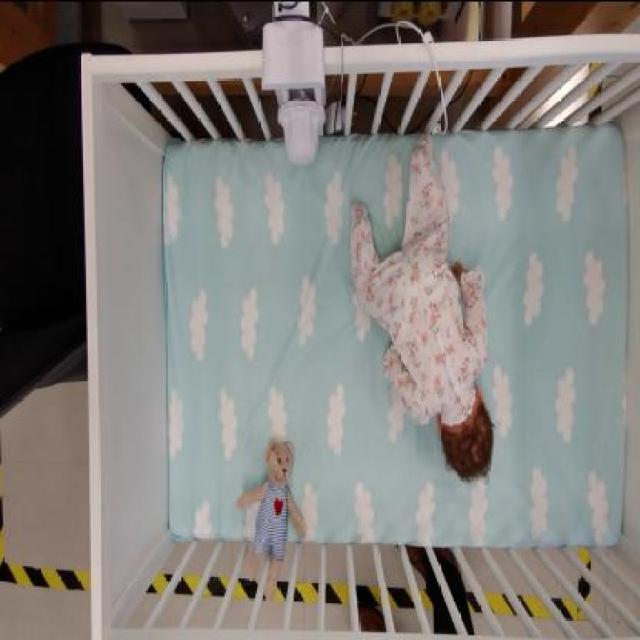baby: (353, 135, 495, 486)
